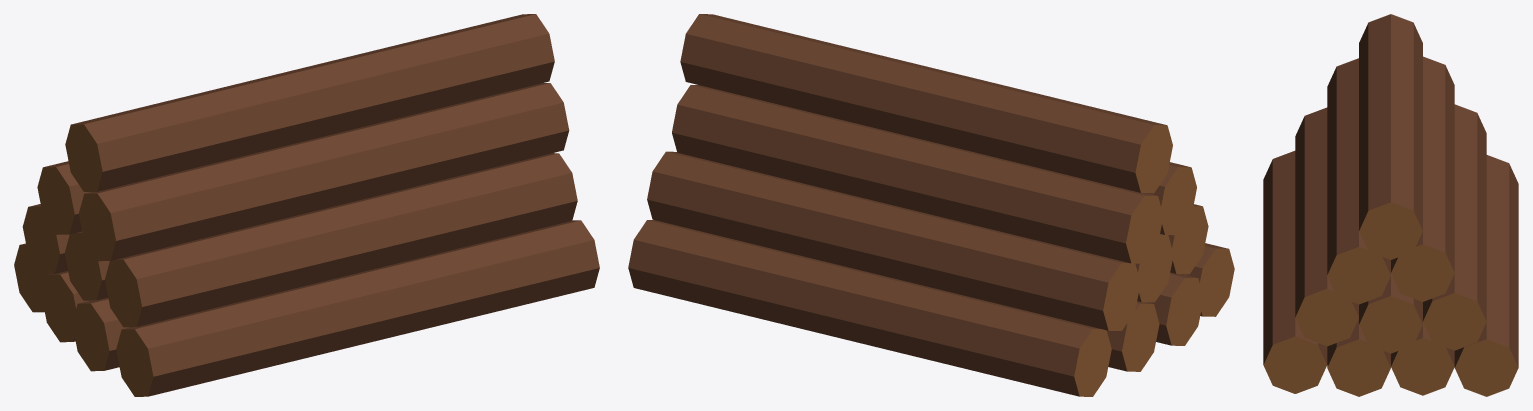
Rendered from LogPile_1.fbx.
3 views of the same model, side by side, from view 1: azimuth 30°, elevation 25°; view 2: azimuth 150°, elevation 25°; view 3: azimuth 270°, elevation 25° (orthographic). The views are drawn at different scales.
Visible parts, largest first — view 1: LogPile_1; view 2: LogPile_1; view 3: LogPile_1.
Boxes of the visible parts, bbox=[...] form: LogPile_1: bbox=[14, 14, 599, 396]; LogPile_1: bbox=[628, 14, 1234, 396]; LogPile_1: bbox=[1263, 14, 1518, 396].
Bounding box in the file's own units: 0.6363 × 0.3 × 0.3529.
